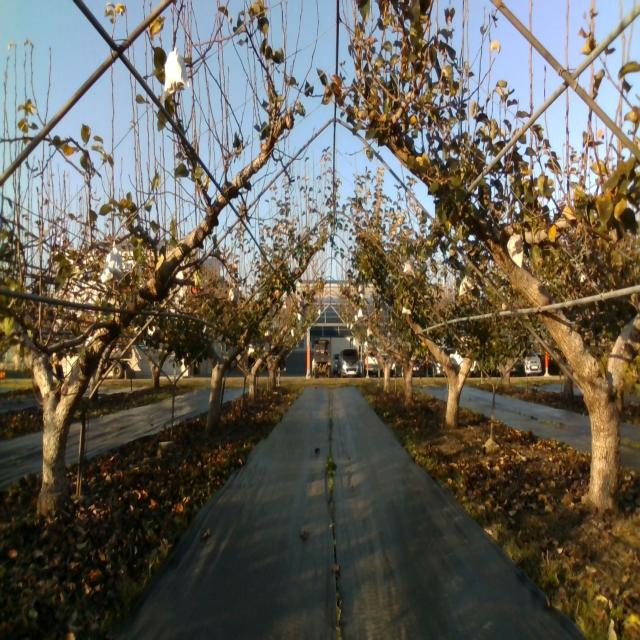pearbags: (164, 46, 190, 96), (101, 242, 124, 285), (506, 231, 524, 270), (459, 275, 475, 298), (403, 259, 415, 279), (228, 288, 239, 306)
